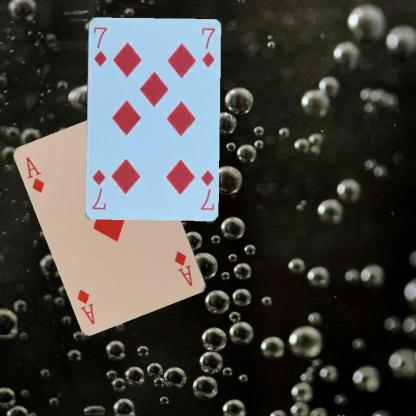7d: (91, 24, 108, 68), (198, 167, 215, 211)
Ad: (24, 154, 46, 195), (172, 248, 194, 288)
